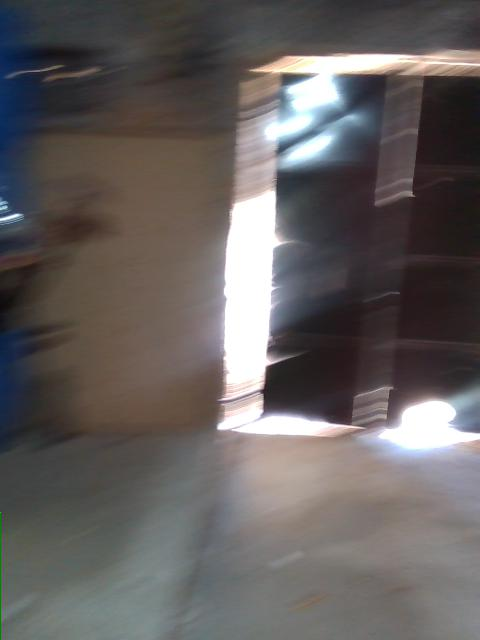door: (222, 56, 479, 440)
